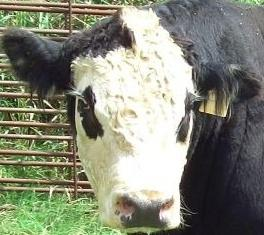muzzles: (108, 188, 185, 232)
